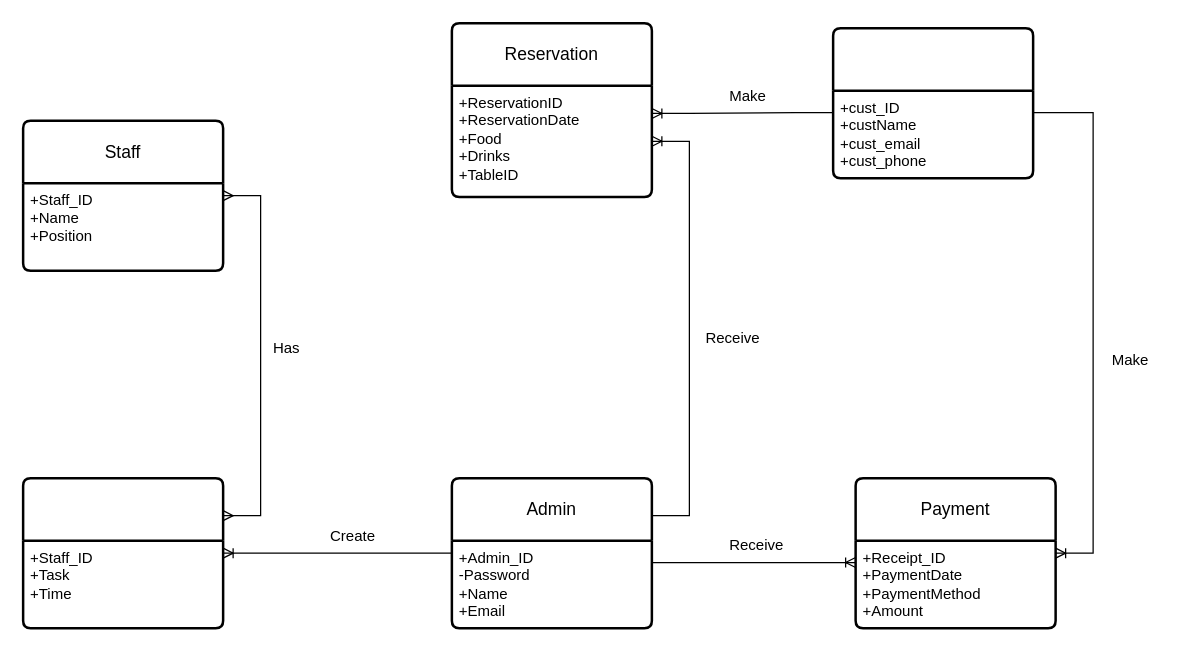
The diagram is 1189 pixels wide and 650 high, and some of its shapes have lost their labels. The shapes that lost their labels are listed below. From the top down, each one's box as (x1, y1, x2, y2) in pixels, then its label:
(831, 26, 1034, 179): Customer
(21, 476, 224, 629): Duty
